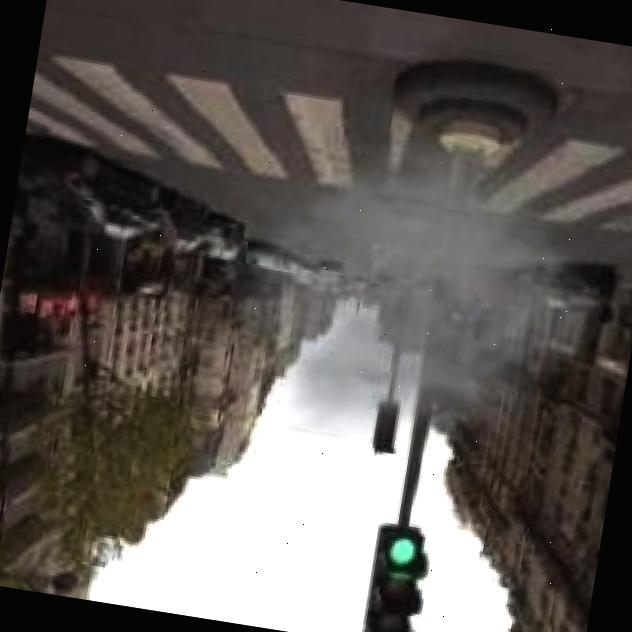smoke: (192, 73, 632, 479)
